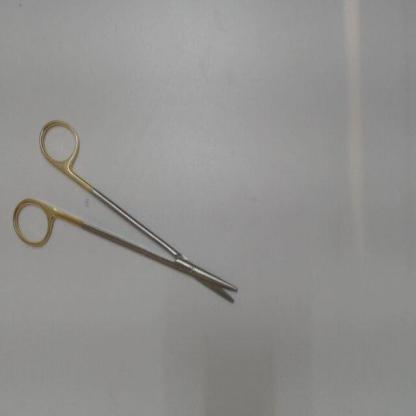7 Metzenbaum Scissors: (9, 115, 245, 311)
